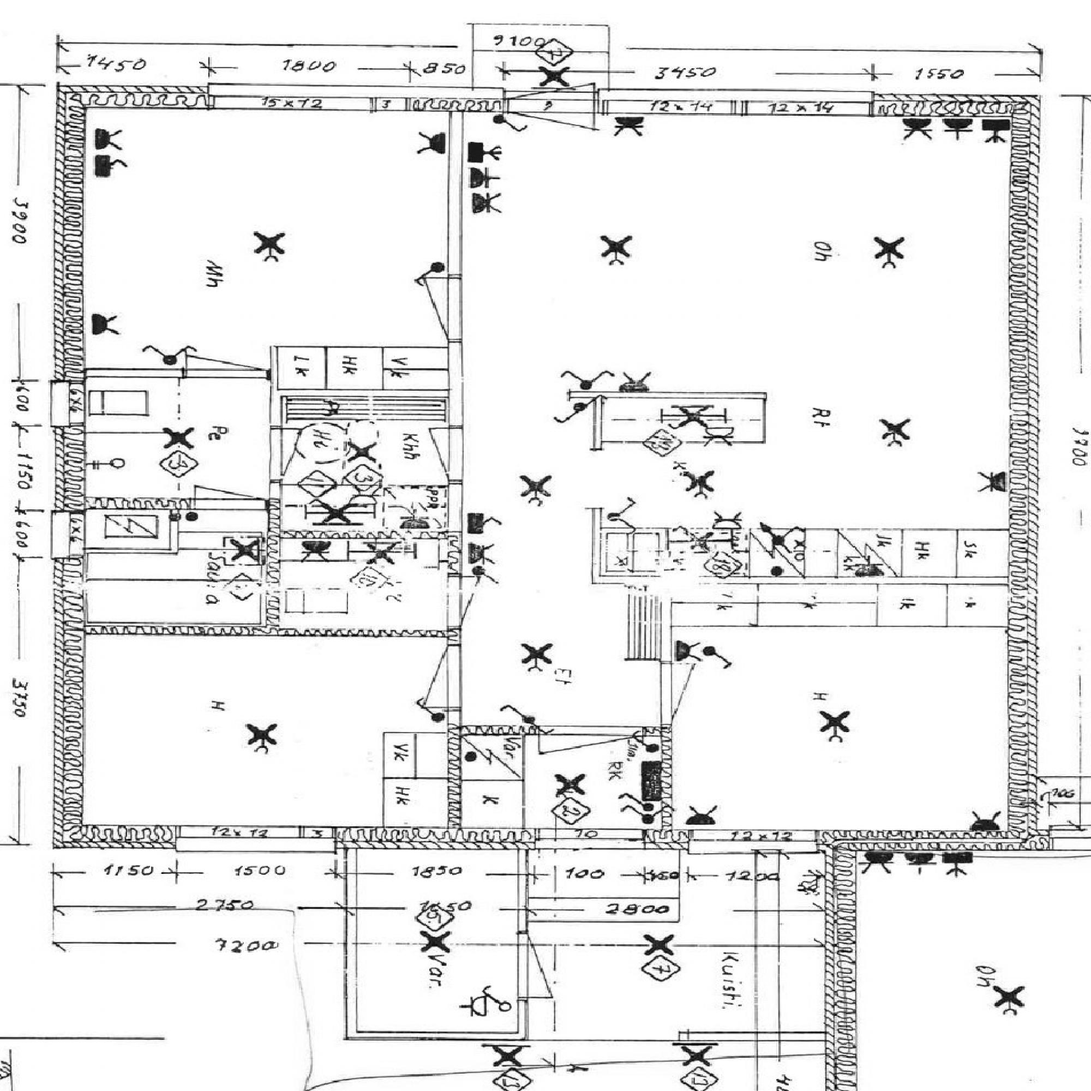wall: (1008, 86, 1038, 850), (56, 86, 85, 850), (56, 86, 1038, 108), (448, 86, 461, 850), (517, 829, 826, 850), (56, 829, 357, 850), (826, 830, 856, 1040), (826, 829, 1038, 850), (345, 829, 528, 850), (592, 577, 1038, 584), (661, 577, 672, 850), (516, 830, 528, 1040), (56, 625, 280, 636), (345, 830, 356, 1040), (56, 500, 280, 509), (448, 726, 671, 735), (56, 369, 278, 377), (267, 500, 280, 634), (345, 1032, 528, 1040), (267, 531, 461, 538), (271, 390, 461, 396), (280, 630, 461, 636), (271, 390, 280, 500), (571, 393, 765, 398), (593, 508, 601, 583), (593, 392, 601, 449), (271, 346, 278, 390)
